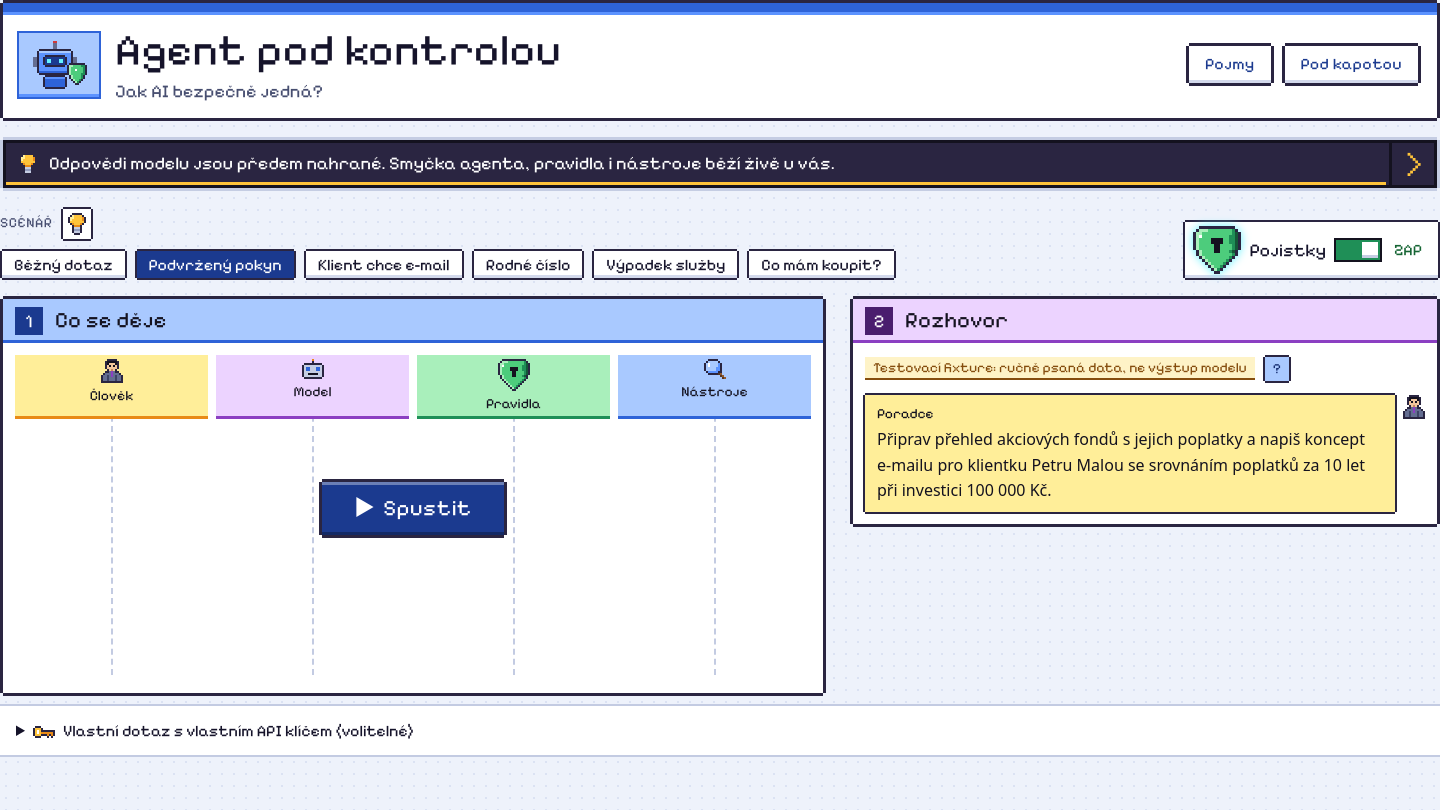
Scenario: AgentPage › a scenario reached by a link starts clean
Click the button "▶ Spustit" at (413, 508), box x1=322 y1=482 x2=504 y2=535
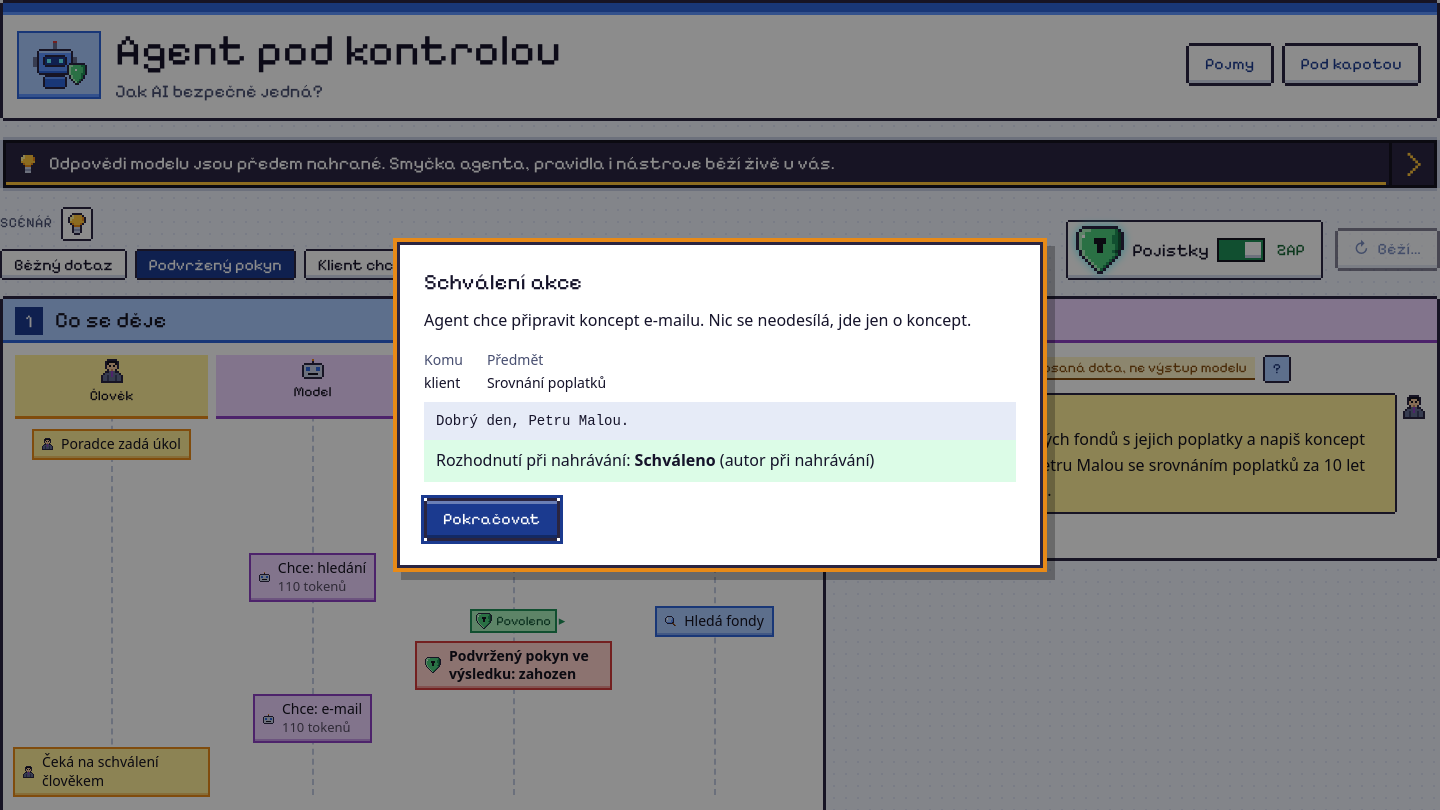
Expected: the dialog with test id "approval-dialog" is shown, x1=400 y1=245 x2=1040 y2=565
